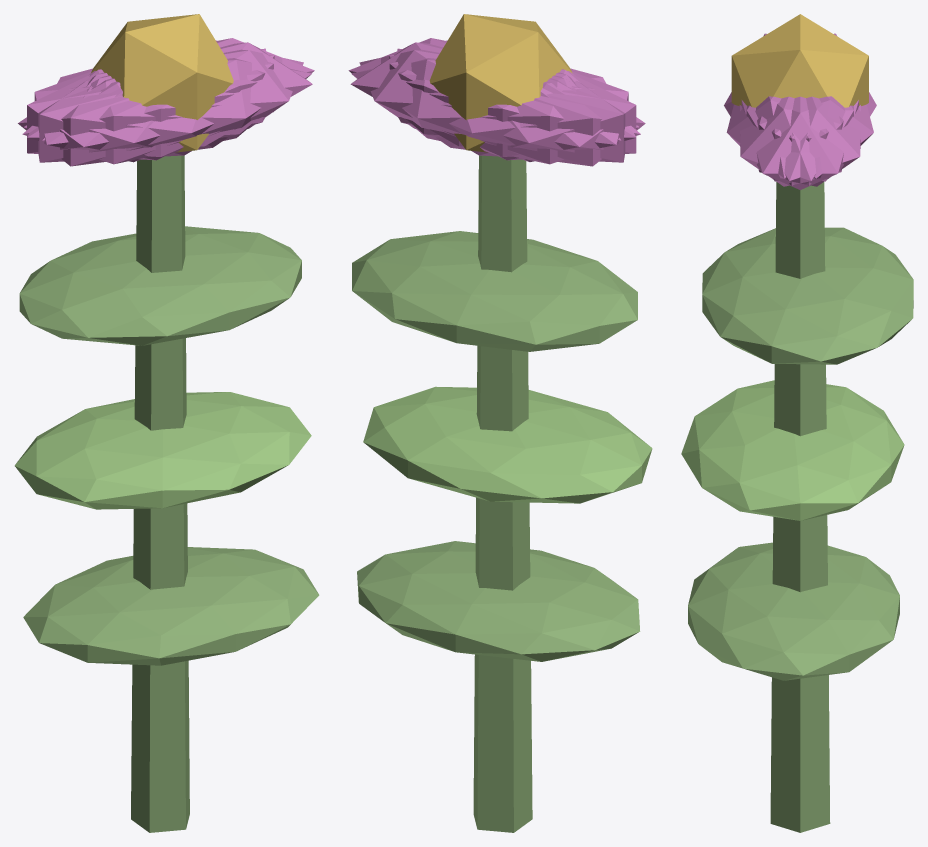
Rendered from tabernaemontana-sphaerocarpa.glb.
3 renders of one model, left to right at view 1: azimuth 30°, elevation 25°; view 2: azimuth 150°, elevation 25°; view 3: azimuth 270°, elevation 25°, orthographic.
Visible parts, largest first — view 1: leaf1, stem, leaf0, leaf2, center, petal1, petal6, petal2, petal5, petal7, petal0, petal4 (+2 smaller); view 2: stem, leaf2, leaf1, leaf0, center, petal8, petal3, petal7, petal4, petal2, petal0, petal5 (+2 smaller); view 3: leaf2, leaf1, leaf0, stem, center, petal0, petal4, petal5, petal8, petal1.
Part boxes in pixels (x1,y1,x2,y2): leaf1: (14, 392, 311, 509); stem: (131, 155, 189, 832); leaf0: (23, 547, 319, 665); leaf2: (19, 226, 301, 345); center: (91, 14, 233, 152); petal1: (22, 58, 311, 164); petal6: (18, 71, 227, 166); petal2: (38, 48, 265, 162); petal5: (42, 49, 303, 156); petal7: (27, 55, 274, 160); petal0: (90, 42, 312, 146); petal4: (24, 38, 314, 137); stem: (473, 155, 532, 832); leaf2: (352, 231, 637, 351); leaf1: (363, 386, 652, 503); leaf0: (357, 541, 640, 661); center: (429, 14, 572, 152); petal8: (351, 58, 640, 164); petal3: (436, 71, 645, 166); petal7: (397, 48, 625, 162); petal4: (359, 49, 621, 156); petal2: (389, 55, 636, 160); petal0: (350, 42, 572, 146); petal5: (348, 38, 639, 137); leaf2: (702, 227, 913, 364); leaf1: (681, 380, 904, 520); leaf0: (688, 542, 899, 680); stem: (770, 182, 830, 832); center: (731, 14, 868, 107); petal0: (741, 96, 858, 189); petal4: (746, 96, 860, 186); petal5: (739, 96, 853, 186); petal8: (757, 96, 873, 178); petal1: (726, 96, 843, 178).
Size of the model in its own units: 0.1452 by 0.3882 by 0.1038.
